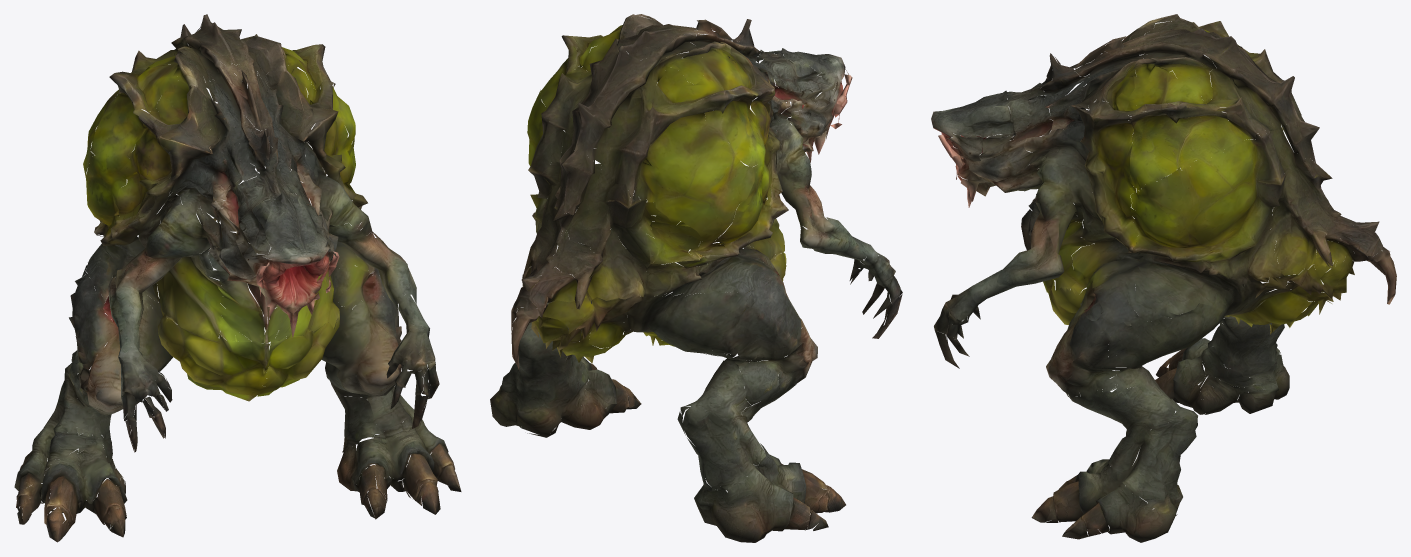
Rendered from alien-spitter-v1.glb.
The picture shows the model from 3 angles, left to right: view 1: azimuth 30°, elevation 25°; view 2: azimuth 150°, elevation 25°; view 3: azimuth 270°, elevation 25°; orthographic projection. The views are drawn at different scales.
Visible parts, largest first — view 1: alien-spitter; view 2: alien-spitter; view 3: alien-spitter.
Part boxes in pixels (left/top/right/bottom): alien-spitter: left=14, top=14, right=461, bottom=542; alien-spitter: left=490, top=14, right=902, bottom=542; alien-spitter: left=931, top=14, right=1396, bottom=542.
Bounding box in the file's own units: 1.8 × 2.1 × 2.05.
Materials: 1 (1 with a texture image).
